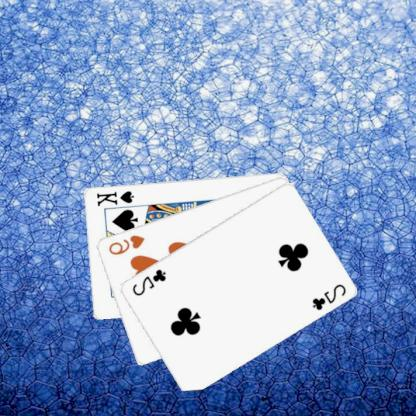2C: (131, 266, 169, 297), (311, 281, 349, 312)
9H: (107, 232, 147, 256)
KS: (95, 187, 137, 207)
